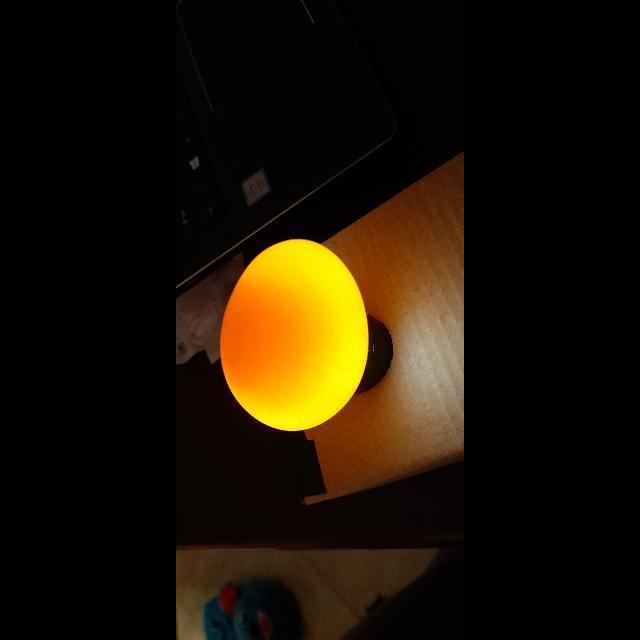Fertile: (220, 237, 370, 435)
